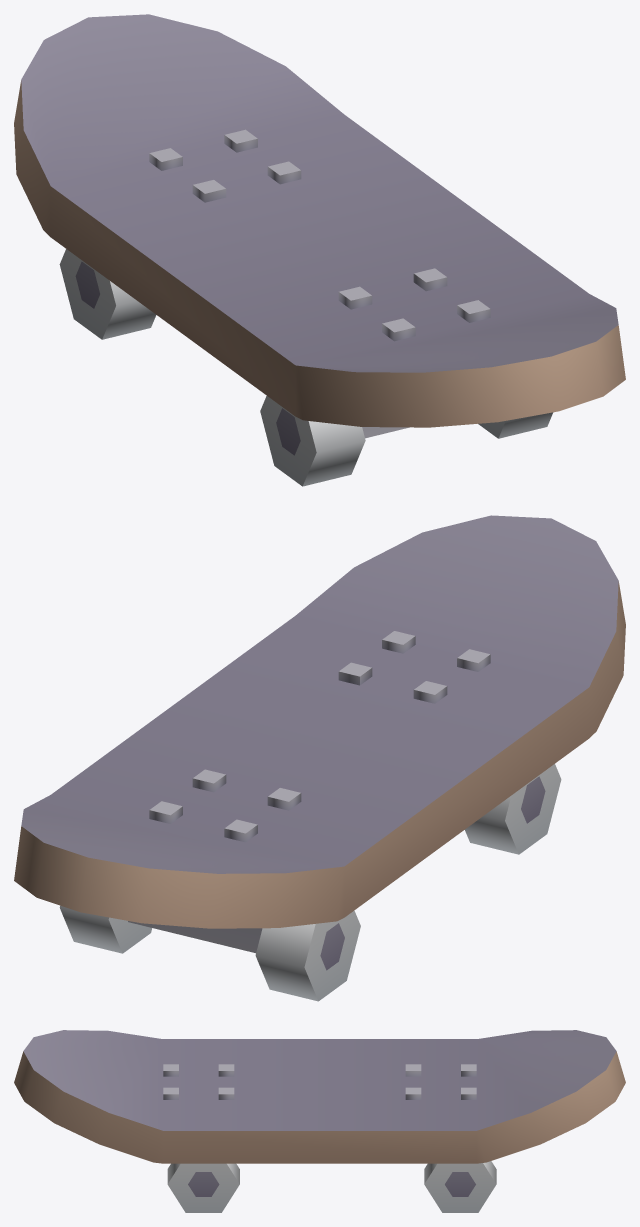
File: toy-skateboard_0.glb
3 renders of one model, top to bottom at view 1: azimuth 30°, elevation 25°; view 2: azimuth 150°, elevation 25°; view 3: azimuth 270°, elevation 25°, orthographic. The views are drawn at different scales.
Visible parts, largest first — view 1: toy-skateboard; view 2: toy-skateboard; view 3: toy-skateboard.
Boxes of the visible parts, bbox=[...] form: toy-skateboard: bbox=[14, 14, 625, 486]; toy-skateboard: bbox=[14, 515, 625, 1001]; toy-skateboard: bbox=[14, 1030, 625, 1212].
Size of the model in its own units: 0.225 by 0.1413 by 0.6342.
